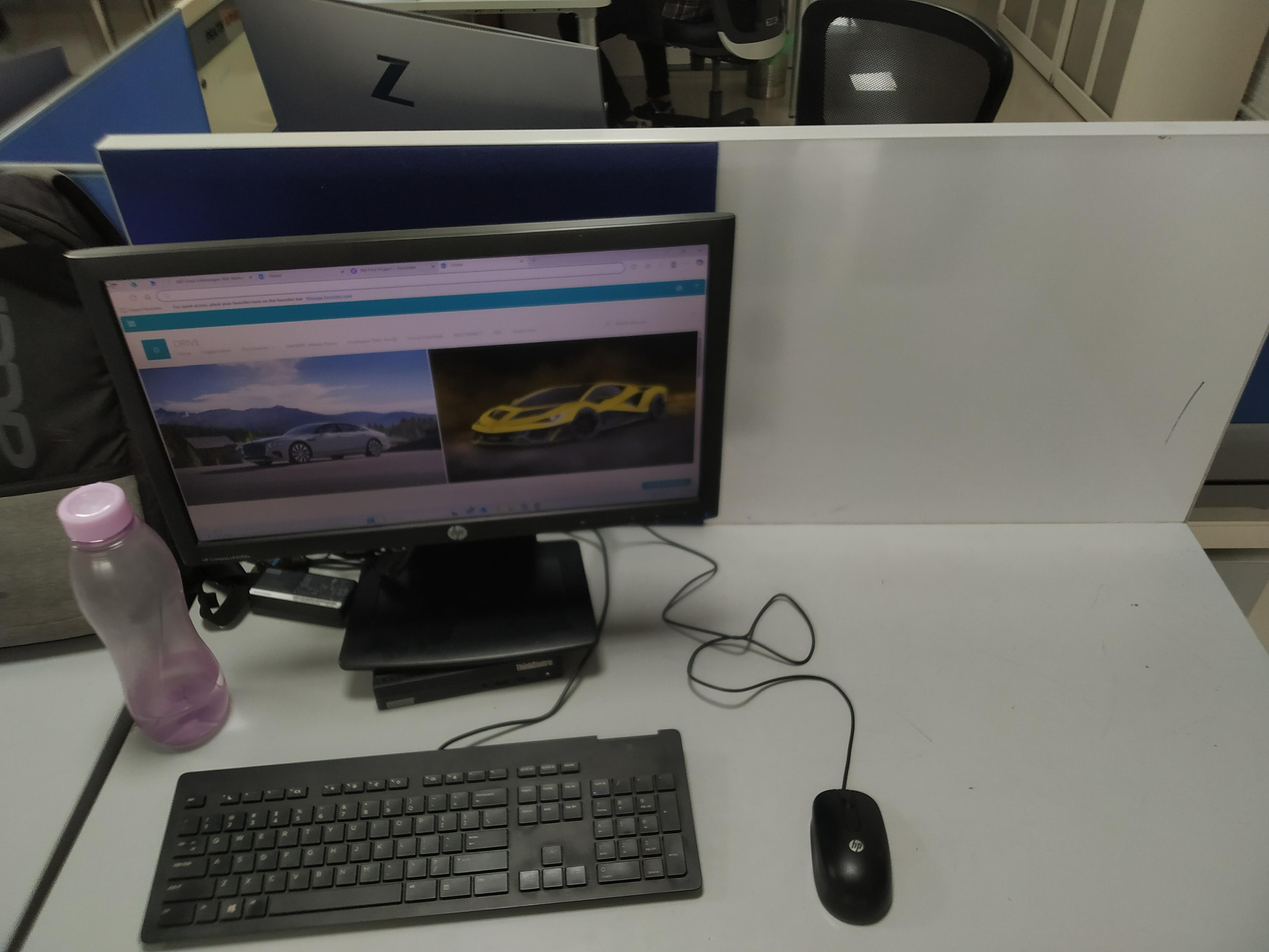bottle: (51, 474, 241, 757)
desktop: (51, 199, 749, 691)
keyboard: (139, 717, 716, 947)
mouse: (797, 777, 905, 934)
